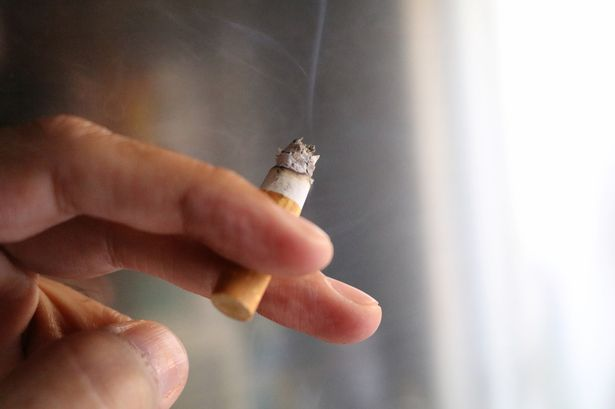cigarette: (206, 132, 337, 332)
